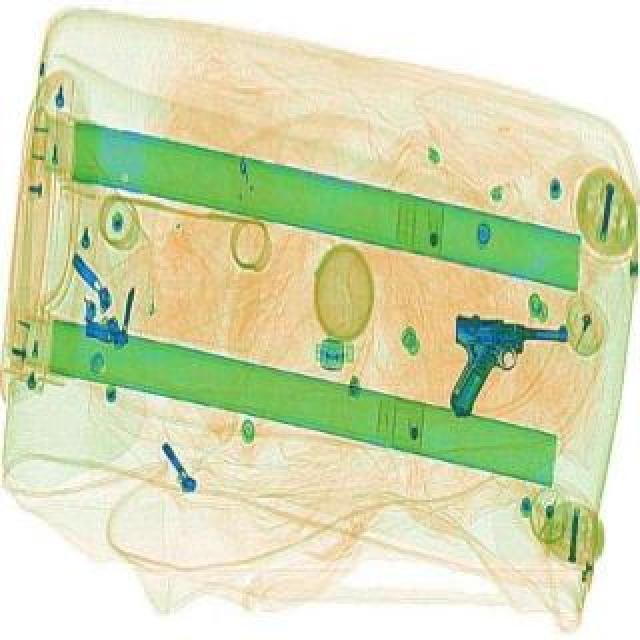gun: (442, 314, 570, 424)
